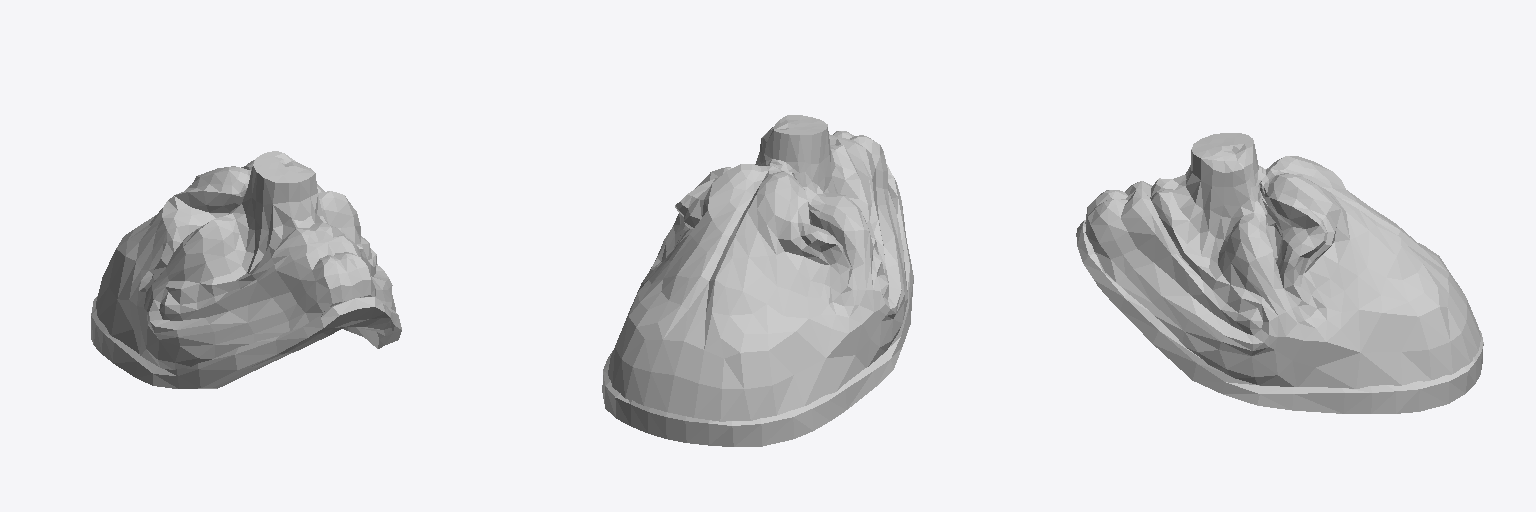
The model's file is Hoxton.obj.
The picture shows the model from 3 angles: view 1: azimuth 30°, elevation 25°; view 2: azimuth 150°, elevation 25°; view 3: azimuth 270°, elevation 25°; orthographic projection.
Visible parts, largest first — view 1: model-0; view 2: model-0; view 3: model-0.
Boxes of the visible parts, <box> form: model-0: <box>91,151,401,388</box>; model-0: <box>602,115,913,446</box>; model-0: <box>1076,133,1483,413</box>.
Bounding box in the file's own units: 19.84 × 18.74 × 30.46.